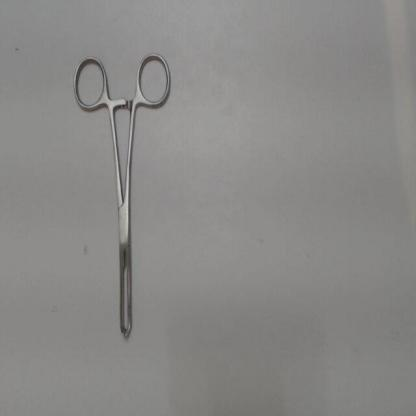Allis Tissue Forceps: (65, 49, 180, 357)
